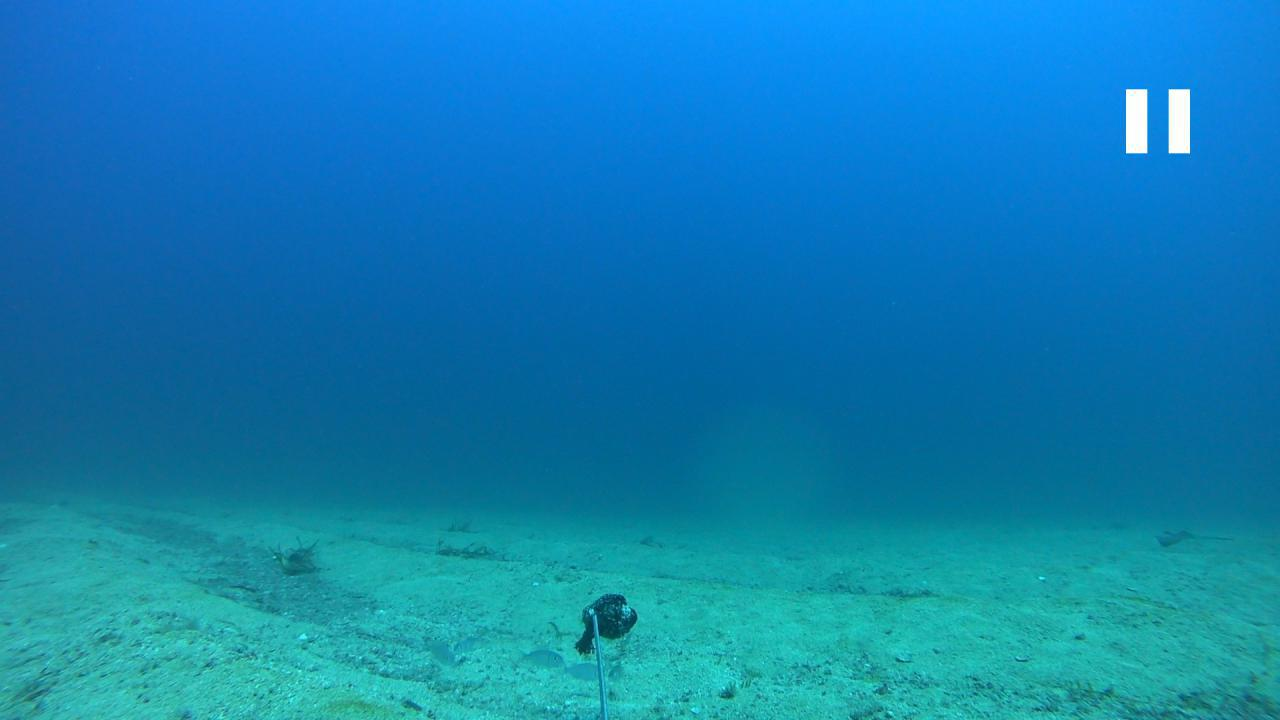dasyatis: (1151, 528, 1236, 547)
pagellus: (412, 640, 455, 669), (457, 631, 499, 655), (518, 648, 562, 670), (561, 664, 607, 684)
